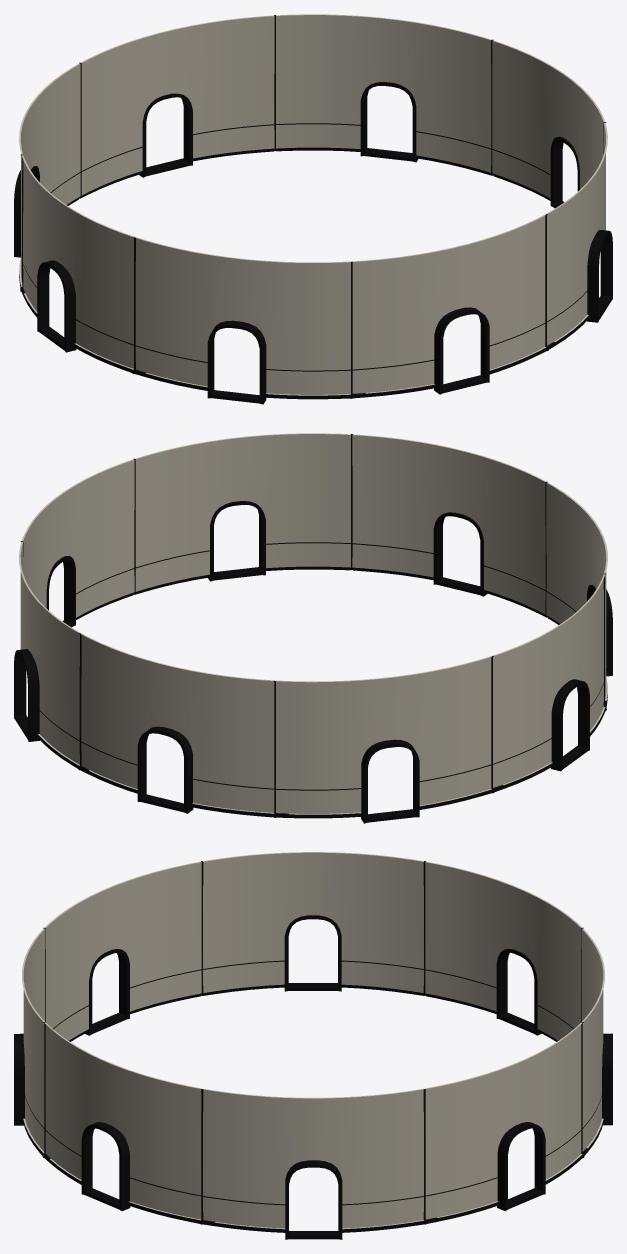
The model's file is OV Bot Walls 3.fbx.
The picture shows the model from 3 angles, top to bottom: view 1: azimuth 30°, elevation 25°; view 2: azimuth 150°, elevation 25°; view 3: azimuth 270°, elevation 25°; orthographic projection.
Parts seen in each view (by area): view 1: polySurface281; view 2: polySurface281; view 3: polySurface281.
Boxes of the visible parts, x1=… form: polySurface281: x1=14, y1=14, x2=612, y2=404; polySurface281: x1=14, y1=433, x2=612, y2=823; polySurface281: x1=14, y1=852, x2=612, y2=1239.
Bounding box in the file's own units: 1853 × 471 × 1853.
